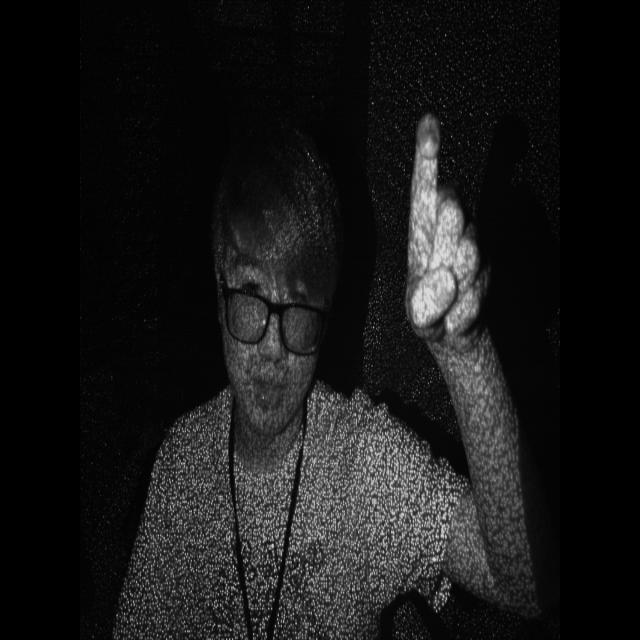X: (398, 86, 494, 359)
